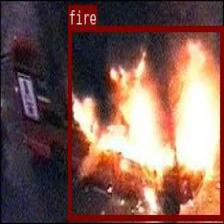fire: (68, 25, 222, 219)
